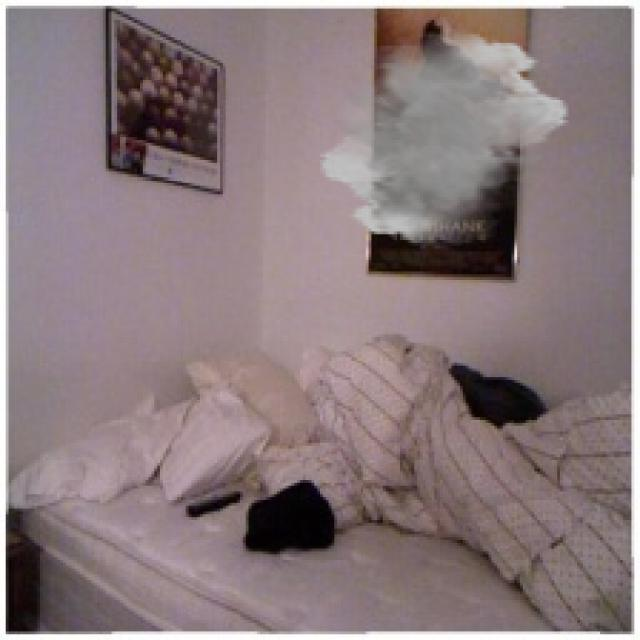Smoke: (317, 28, 572, 248)
